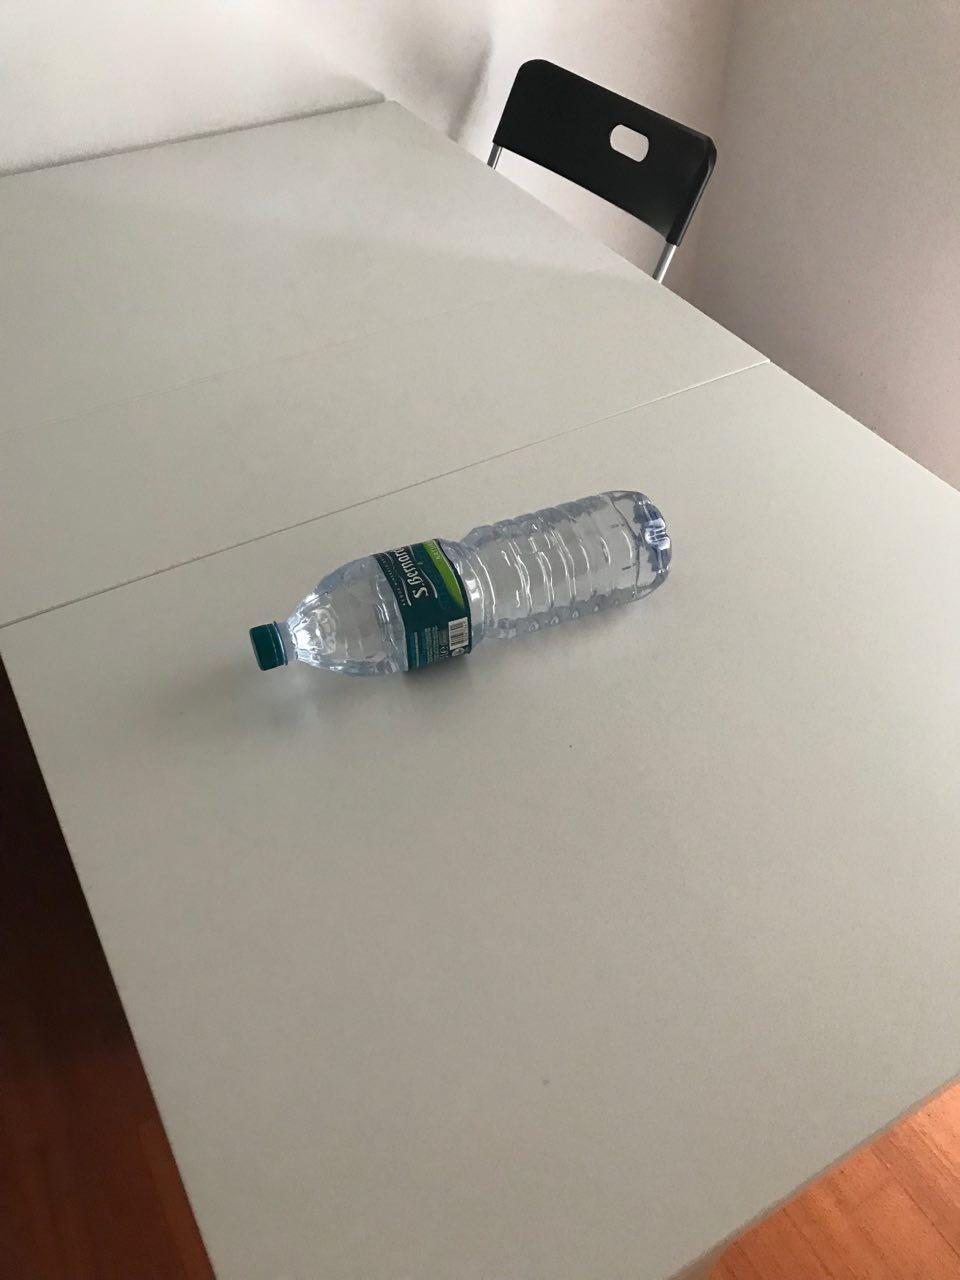san_bernardo: (249, 488, 673, 678)
